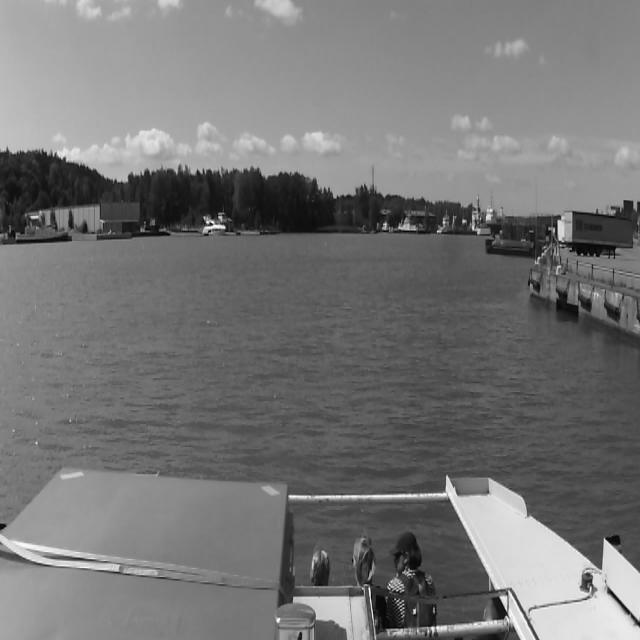ship: (202, 215, 226, 237)
